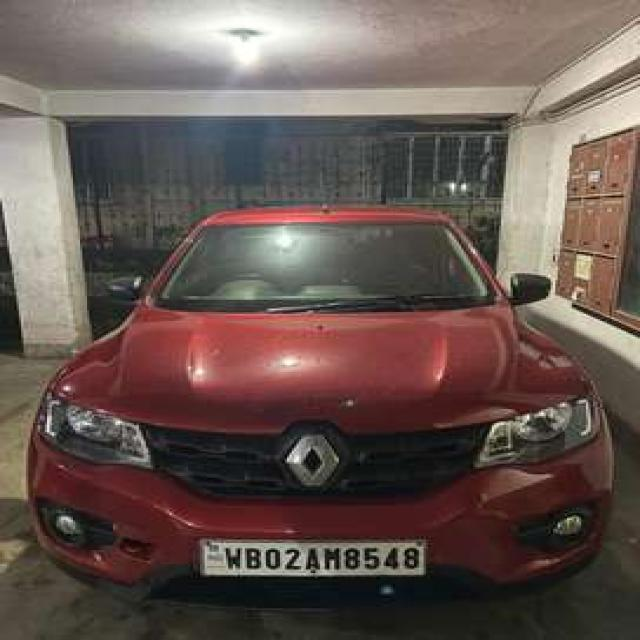licenseplate: (193, 534, 431, 578)
